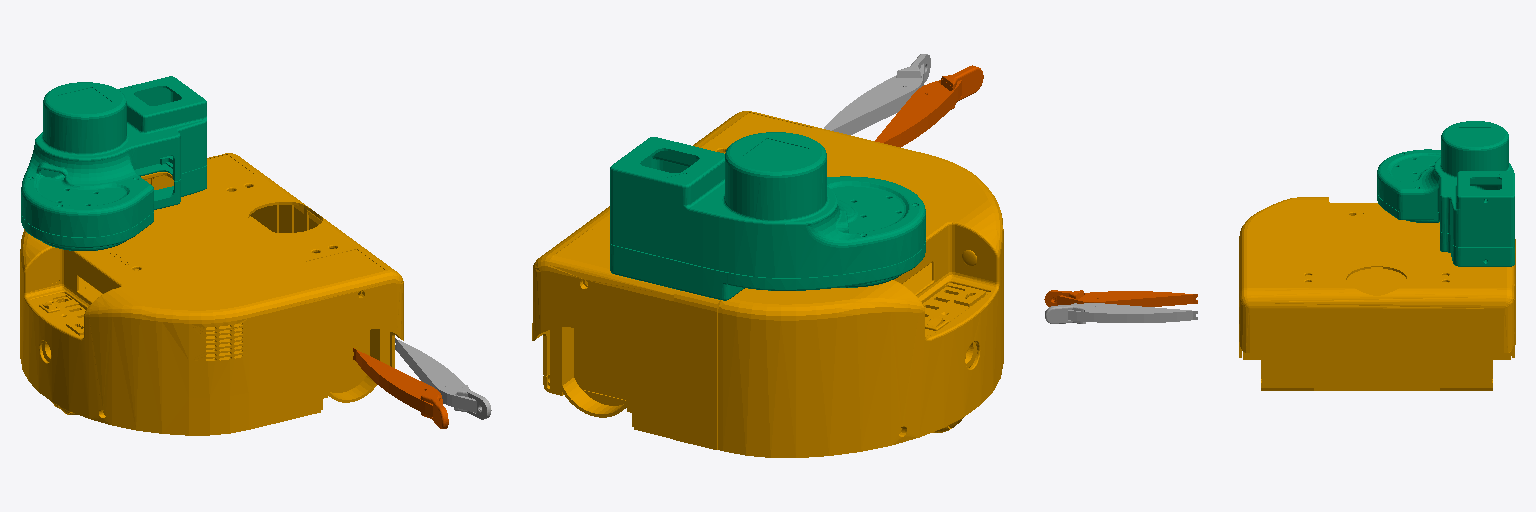
robot.urdf — stretch:
<?xml version='1.0' encoding='UTF-8'?>
<robot name="stretch">
  <link name="base_link">
    <inertial>
      <origin xyz="-0.087526 -0.001626 0.081009" rpy="0.0 0.0 0.0"/>
      <mass value="17.384389"/>
      <inertia ixx="0.160002" ixy="0.006758" ixz="0.004621" iyy="0.138068" iyz="0.002208" izz="0.228992"/>
    </inertial>
    <visual>
      <geometry>
        <mesh filename="./meshes/base_link.STL"/>
      </geometry>
      <material name=""/>
      <origin xyz="0.0 0.0 0.0" rpy="0.0 0.0 0.0"/>
    </visual>
    <collision>
      <geometry>
        <mesh filename="./meshes/base_link_collision.STL"/>
      </geometry>
      <origin xyz="0.0 0.0 0.0" rpy="0.0 0.0 0.0"/>
    </collision>
  </link>
  <link name="link_mast">
    <inertial>
      <origin xyz="0.000337 0.722201 0.002652" rpy="0.0 0.0 0.0"/>
      <mass value="1.764017"/>
      <inertia ixx="0.291286" ixy="0.004149" ixz="-0.000174" iyy="0.001226" iyz="0.000354" izz="0.291429"/>
    </inertial>
    <visual>
      <geometry>
        <mesh filename="./meshes/link_mast.STL"/>
      </geometry>
      <material name=""/>
      <origin xyz="0.0 0.0 0.0" rpy="0.0 0.0 0.0"/>
    </visual>
    <collision>
      <geometry>
        <mesh filename="./meshes/link_mast_collision.STL"/>
      </geometry>
      <origin xyz="0.0 0.0 0.0" rpy="0.0 0.0 0.0"/>
    </collision>
  </link>
  <link name="link_lift">
    <inertial>
      <origin xyz="-0.020369 0.03438 0.02236" rpy="0.0 0.0 0.0"/>
      <mass value="1.987167"/>
      <inertia ixx="0.006518" ixy="-0.001539" ixz="0.000371" iyy="0.004464" iyz="0.000392" izz="0.008092"/>
    </inertial>
    <visual>
      <geometry>
        <mesh filename="./meshes/link_lift.STL"/>
      </geometry>
      <material name=""/>
      <origin xyz="0.0 0.0 0.0" rpy="0.0 0.0 0.0"/>
    </visual>
    <collision>
      <geometry>
        <mesh filename="./meshes/link_lift_collision.STL"/>
      </geometry>
      <origin xyz="0.0 0.0 0.0" rpy="0.0 0.0 0.0"/>
    </collision>
  </link>
  <link name="link_arm_l4">
    <inertial>
      <origin xyz="-0.000168 -0.000254 -0.125235" rpy="0.0 0.0 0.0"/>
      <mass value="0.235626"/>
      <inertia ixx="0.001518" ixy="-1e-06" ixz="3e-06" iyy="0.001519" iyz="3e-06" izz="0.000176"/>
    </inertial>
    <visual>
      <geometry>
        <mesh filename="./meshes/link_arm_l4.STL"/>
      </geometry>
      <material name=""/>
      <origin xyz="0.0 0.0 0.0" rpy="0.0 0.0 0.0"/>
    </visual>
    <collision>
      <geometry>
        <mesh filename="./meshes/link_arm_l4_collision.STL"/>
      </geometry>
      <origin xyz="0.0 0.0 0.0" rpy="0.0 0.0 0.0"/>
    </collision>
  </link>
  <link name="link_arm_l3">
    <inertial>
      <origin xyz="-1e-06 -0.000146 -0.11908" rpy="0.0 0.0 0.0"/>
      <mass value="0.146817"/>
      <inertia ixx="0.001081" ixy="0.0" ixz="0.0" iyy="0.001081" iyz="-1e-06" izz="7.7e-05"/>
    </inertial>
    <visual>
      <geometry>
        <mesh filename="./meshes/link_arm_l3.STL"/>
      </geometry>
      <material name=""/>
      <origin xyz="0.0 0.0 0.0" rpy="0.0 0.0 0.0"/>
    </visual>
    <collision>
      <geometry>
        <mesh filename="./meshes/link_arm_l3_collision.STL"/>
      </geometry>
      <origin xyz="0.0 0.0 0.0" rpy="0.0 0.0 0.0"/>
    </collision>
  </link>
  <link name="link_arm_l2">
    <inertial>
      <origin xyz="0.0 -7.1e-05 -0.115635" rpy="0.0 0.0 0.0"/>
      <mass value="0.130565"/>
      <inertia ixx="0.000943" ixy="0.0" ixz="0.0" iyy="0.000943" iyz="0.0" izz="5.7e-05"/>
    </inertial>
    <visual>
      <geometry>
        <mesh filename="./meshes/link_arm_l2.STL"/>
      </geometry>
      <material name=""/>
      <origin xyz="0.0 0.0 0.0" rpy="0.0 0.0 0.0"/>
    </visual>
    <collision>
      <geometry>
        <mesh filename="./meshes/link_arm_l2_collision.STL"/>
      </geometry>
      <origin xyz="0.0 0.0 0.0" rpy="0.0 0.0 0.0"/>
    </collision>
  </link>
  <link name="link_arm_l1">
    <inertial>
      <origin xyz="-1e-06 -0.000121 -0.113457" rpy="0.0 0.0 0.0"/>
      <mass value="0.113658"/>
      <inertia ixx="0.0008" ixy="0.0" ixz="0.0" iyy="0.0008" iyz="0.0" izz="4e-05"/>
    </inertial>
    <visual>
      <geometry>
        <mesh filename="./meshes/link_arm_l1.STL"/>
      </geometry>
      <material name=""/>
      <origin xyz="0.0 0.0 0.0" rpy="0.0 0.0 0.0"/>
    </visual>
    <collision>
      <geometry>
        <mesh filename="./meshes/link_arm_l1_collision.STL"/>
      </geometry>
      <origin xyz="0.0 0.0 0.0" rpy="0.0 0.0 0.0"/>
    </collision>
  </link>
  <link name="link_arm_l0">
    <inertial>
      <origin xyz="0.033681 -0.000847 -0.031723" rpy="0.0 0.0 0.0"/>
      <mass value="0.427734"/>
      <inertia ixx="0.001689" ixy="-2.8e-05" ixz="0.000483" iyy="0.002107" iyz="-1.1e-05" izz="0.000571"/>
    </inertial>
    <visual>
      <geometry>
        <mesh filename="./meshes/link_arm_l0.STL"/>
      </geometry>
      <material name=""/>
      <origin xyz="0.0 0.0 0.0" rpy="0.0 0.0 0.0"/>
    </visual>
    <collision>
      <geometry>
        <mesh filename="./meshes/link_arm_l0_collision.STL"/>
      </geometry>
      <origin xyz="0.0 0.0 0.0" rpy="0.0 0.0 0.0"/>
    </collision>
  </link>
  <link name="link_wrist_yaw">
    <inertial>
      <origin xyz="0.0 -3.9e-05 -0.016495" rpy="0.0 0.0 0.0"/>
      <mass value="0.054422"/>
      <inertia ixx="9e-06" ixy="0.0" ixz="0.0" iyy="9e-06" iyz="0.0" izz="7e-06"/>
    </inertial>
    <visual>
      <geometry>
        <mesh filename="./meshes/link_wrist_yaw.STL"/>
      </geometry>
      <material name=""/>
      <origin xyz="0.0 0.0 0.0" rpy="0.0 0.0 0.0"/>
    </visual>
    <collision>
      <geometry>
        <mesh filename="./meshes/link_wrist_yaw_collision.STL"/>
      </geometry>
      <origin xyz="0.0 0.0 0.0" rpy="0.0 0.0 0.0"/>
    </collision>
  </link>
  <link name="link_wrist_yaw_bottom">
    <inertial>
      <origin xyz="-0.0165399153795968 -0.0446328107020906 -0.0281087384763343" rpy="0.0 0.0 0.0"/>
      <mass value="0.144548635554334"/>
      <inertia ixx="4.56525957614798e-05" ixy="-1.08217417869179e-06" ixz="-1.44384040297111e-08" iyy="7.22875259104698e-05" iyz="3.40820143544021e-09" izz="8.76544308203217e-05"/>
    </inertial>
    <visual>
      <geometry>
        <mesh filename="./meshes/link_DW3_wrist_yaw_bottom.STL"/>
      </geometry>
      <material name=""/>
      <origin xyz="0.0 0.0 0.0" rpy="0.0 0.0 0.0"/>
    </visual>
    <collision>
      <geometry>
        <mesh filename="./meshes/link_DW3_wrist_yaw_bottom_collision.STL"/>
      </geometry>
      <origin xyz="0.0 0.0 0.0" rpy="0.0 0.0 0.0"/>
    </collision>
  </link>
  <link name="link_wrist_pitch">
    <inertial>
      <origin xyz="-0.000711479645697954 -0.0147442681465562 0.0195140764319514" rpy="0.0 0.0 0.0"/>
      <mass value="0.116590512374845"/>
      <inertia ixx="5.76204624498191e-05" ixy="-7.78647509857216e-07" ixz="-2.86646997376633e-08" iyy="3.5844353951621e-05" iyz="1.06445058968725e-06" izz="6.36355321976534e-05"/>
    </inertial>
    <visual>
      <geometry>
        <mesh filename="./meshes/link_DW3_wrist_pitch.STL"/>
      </geometry>
      <material name=""/>
      <origin xyz="0.0 0.0 0.0" rpy="0.0 0.0 0.0"/>
    </visual>
    <collision>
      <geometry>
        <mesh filename="./meshes/link_DW3_wrist_pitch_collision.STL"/>
      </geometry>
      <origin xyz="0.0 0.0 0.0" rpy="0.0 0.0 0.0"/>
    </collision>
  </link>
  <link name="link_wrist_roll">
    <inertial>
      <origin xyz="0.000282866582415386 0.000557472767112266 0.0196635450480892" rpy="0.0 0.0 0.0"/>
      <mass value="0.0221916689638078"/>
      <inertia ixx="2.20608319376175e-06" ixy="3.01742816614342e-09" ixz="-1.83537060988685e-08" iyy="2.91436292743443e-06" iyz="-4.5509705441618e-08" izz="4.83731409646016e-06"/>
    </inertial>
    <visual>
      <geometry>
        <mesh filename="./meshes/link_DW3_wrist_roll.STL"/>
      </geometry>
      <material name=""/>
      <origin xyz="0.0 0.0 0.0" rpy="0.0 0.0 0.0"/>
    </visual>
    <collision>
      <geometry>
        <mesh filename="./meshes/link_DW3_wrist_roll_collision.STL"/>
      </geometry>
      <origin xyz="0.0 0.0 0.0" rpy="0.0 0.0 0.0"/>
    </collision>
  </link>
  <link name="link_gripper_s3_body">
    <inertial>
      <origin xyz="0.000296364207693828 0.00742489472460528 0.0440194148825503" rpy="0.0 0.0 0.0"/>
      <mass value="0.288995995074102"/>
      <inertia ixx="0.000482695285602815" ixy="-3.02029982967392e-06" ixz="6.73858128561175e-07" iyy="0.000213430693267808" iyz="-1.95797907844847e-05" izz="0.000377638305434195"/>
    </inertial>
    <visual>
      <geometry>
        <mesh filename="./meshes/link_SG3_gripper_body.STL"/>
      </geometry>
      <material name=""/>
      <origin xyz="0.0 0.0 0.0" rpy="0.0 0.0 0.0"/>
    </visual>
    <collision>
      <geometry>
        <mesh filename="./meshes/link_SG3_gripper_body_collision.STL"/>
      </geometry>
      <origin xyz="0.0 0.0 0.0" rpy="0.0 0.0 0.0"/>
    </collision>
  </link>
  <link name="link_gripper_finger_right">
    <inertial>
      <origin xyz="-0.107294725536829 -0.00404012121215261 7.86433341395387e-05" rpy="0.0 0.0 0.0"/>
      <mass value="0.0483698337858479"/>
      <inertia ixx="3.0603544296956e-06" ixy="-8.13967524445937e-07" ixz="-6.04746355450675e-08" iyy="6.12306677697621e-05" iyz="-1.81592899124487e-08" izz="6.24670188075471e-05"/>
    </inertial>
    <visual>
      <geometry>
        <mesh filename="./meshes/link_SG3_gripper_finger_right.STL"/>
      </geometry>
      <material name=""/>
      <origin xyz="0.0 0.0 0.0" rpy="0.0 0.0 0.0"/>
    </visual>
    <collision>
      <geometry>
        <mesh filename="./meshes/link_SG3_gripper_finger_right_collision.STL"/>
      </geometry>
      <origin xyz="0.0 0.0 0.0" rpy="0.0 0.0 0.0"/>
    </collision>
  </link>
  <link name="link_gripper_fingertip_right">
    <inertial>
      <origin xyz="2.8647736627363e-08 -9.47712436305537e-09 0.00812577933915037" rpy="0.0 0.0 0.0"/>
      <mass value="0.00382162062525088"/>
      <inertia ixx="4.13411802118931e-07" ixy="3.48038363075757e-16" ixz="-5.14102948448996e-13" iyy="4.13411799815932e-07" iyz="1.76223254858882e-13" izz="7.08442016110623e-07"/>
    </inertial>
    <visual>
      <geometry>
        <mesh filename="./meshes/link_SG3_gripper_fingertip_right.STL"/>
      </geometry>
      <material name=""/>
      <origin xyz="0.0 0.0 0.0" rpy="0.0 0.0 0.0"/>
    </visual>
    <collision>
      <geometry>
        <mesh filename="./meshes/link_SG3_gripper_fingertip_right_collision.STL"/>
      </geometry>
      <origin xyz="0.0 0.0 0.0" rpy="0.0 0.0 0.0"/>
    </collision>
  </link>
  <link name="link_gripper_finger_left">
    <inertial>
      <origin xyz="0.107294715994863 -0.00404011929289155 7.86443400617731e-05" rpy="0.0 0.0 0.0"/>
      <mass value="0.0483698266031602"/>
      <inertia ixx="3.06035472000871e-06" ixy="8.13968102368407e-07" ixz="6.04787443258659e-08" iyy="6.12306675643124e-05" iyz="-1.81596824851191e-08" izz="6.24670194741309e-05"/>
    </inertial>
    <visual>
      <geometry>
        <mesh filename="./meshes/link_SG3_gripper_finger_left.STL"/>
      </geometry>
      <material name=""/>
      <origin xyz="0.0 0.0 0.0" rpy="0.0 0.0 0.0"/>
    </visual>
    <collision>
      <geometry>
        <mesh filename="./meshes/link_SG3_gripper_finger_left_collision.STL"/>
      </geometry>
      <origin xyz="0.0 0.0 0.0" rpy="0.0 0.0 0.0"/>
    </collision>
  </link>
  <link name="link_gripper_fingertip_left">
    <inertial>
      <origin xyz="-3.08483497635237e-08 -1.26956833934599e-09 0.0081257795407928" rpy="0.0 0.0 0.0"/>
      <mass value="0.00382162054362131"/>
      <inertia ixx="4.13411804417319e-07" ixy="2.60118266065524e-16" ixz="5.82035131405725e-13" iyy="4.13411805017951e-07" iyz="2.22196449834679e-14" izz="7.08442015318697e-07"/>
    </inertial>
    <visual>
      <geometry>
        <mesh filename="./meshes/link_SG3_gripper_fingertip_left.STL"/>
      </geometry>
      <material name=""/>
      <origin xyz="0.0 0.0 0.0" rpy="0.0 0.0 0.0"/>
    </visual>
    <collision>
      <geometry>
        <mesh filename="./meshes/link_SG3_gripper_fingertip_left_collision.STL"/>
      </geometry>
      <origin xyz="0.0 0.0 0.0" rpy="0.0 0.0 0.0"/>
    </collision>
  </link>
  <link name="link_grasp_center">
    <inertial>
      <origin xyz="0.0 0.0 0.0" rpy="0.0 -0.0 0.0"/>
      <mass value="1.0"/>
      <inertia ixx="1.0" ixy="0.0" ixz="0.0" iyy="1.0" iyz="0.0" izz="1.0"/>
    </inertial>
  </link>
  <joint name="joint_mast" type="fixed">
    <parent link="base_link"/>
    <child link="link_mast"/>
    <axis xyz="1. 0. 0."/>
    <origin xyz="-0.067 0.135 0.0284" rpy="1.5708 0.0 4.8006e-17"/>
  </joint>
  <joint name="joint_lift" type="prismatic">
    <limit effort="100.0" velocity="1.0" lower="0.0" upper="1.1"/>
    <parent link="link_mast"/>
    <child link="link_lift"/>
    <axis xyz="0. 0. 1."/>
    <origin xyz="-0.037385 0.1666 0.0" rpy="1.5707926535897934 1.5707926535755432 -3.141592653589793"/>
  </joint>
  <joint name="joint_arm_l4" type="fixed">
    <parent link="link_lift"/>
    <child link="link_arm_l4"/>
    <axis xyz="1. 0. 0."/>
    <origin xyz="-0.2547 0.0 0.0" rpy="1.5708 2.4721e-15 -1.5708"/>
  </joint>
  <joint name="joint_arm_l3" type="prismatic">
    <limit effort="100.0" velocity="1.0" lower="0.0" upper="0.13"/>
    <parent link="link_arm_l4"/>
    <child link="link_arm_l3"/>
    <axis xyz="0. 0. 1."/>
    <origin xyz="0.0 0.0 0.013" rpy="7.68831233799385e-30 2.36716479416092e-30 2.29652732251143e-17"/>
  </joint>
  <joint name="joint_arm_l2" type="prismatic">
    <limit effort="100.0" velocity="1.0" lower="0.0" upper="0.13"/>
    <parent link="link_arm_l3"/>
    <child link="link_arm_l2"/>
    <axis xyz="0. 0. 1."/>
    <origin xyz="0.0 0.0 0.013" rpy="0.0 1.57655765344625e-30 -1.66533453693773e-16"/>
  </joint>
  <joint name="joint_arm_l1" type="prismatic">
    <limit effort="100.0" velocity="1.0" lower="0.0" upper="0.13"/>
    <parent link="link_arm_l2"/>
    <child link="link_arm_l1"/>
    <axis xyz="0. 0. 1."/>
    <origin xyz="0.0 0.0 0.0129999999999981" rpy="-7.63746778746202e-30 -7.88860905221012e-31 1.11022302462516e-16"/>
  </joint>
  <joint name="joint_arm_l0" type="prismatic">
    <limit effort="100.0" velocity="1.0" lower="0.0" upper="0.13"/>
    <parent link="link_arm_l1"/>
    <child link="link_arm_l0"/>
    <axis xyz="0. 0. 1."/>
    <origin xyz="0.0 0.0 -0.0137499999991968" rpy="7.63746778746202e-30 -3.80121128864402e-15 2.62707547767438e-15"/>
  </joint>
  <joint name="joint_wrist_yaw" type="revolute">
    <limit effort="100.0" velocity="1.0" lower="-1.75" upper="4.0"/>
    <parent link="link_arm_l0"/>
    <child link="link_wrist_yaw"/>
    <axis xyz=" 0.  0. -1."/>
    <origin xyz="0.0830000000000654 -0.0307500000000129 0.0" rpy="-1.5707963267949 0.0 3.14159265358978"/>
  </joint>
  <joint name="joint_wrist_yaw_bottom" type="fixed">
    <parent link="link_wrist_yaw"/>
    <child link="link_wrist_yaw_bottom"/>
    <axis xyz="1. 0. 0."/>
    <origin xyz="0.0 0.0 0.0" rpy="-3.14159265358979 0.0 -1.5707963267949"/>
  </joint>
  <joint name="joint_wrist_pitch" type="revolute">
    <limit effort="100.0" velocity="1.0" lower="-1.57" upper="0.56"/>
    <parent link="link_wrist_yaw_bottom"/>
    <child link="link_wrist_pitch"/>
    <axis xyz=" 0.  0. -1."/>
    <origin xyz="0.0 -0.019455 -0.0305" rpy="1.5708 0.0 -3.1415853071795867"/>
  </joint>
  <joint name="joint_wrist_roll" type="revolute">
    <limit effort="100.0" velocity="1.0" lower="-3.14" upper="3.14"/>
    <parent link="link_wrist_pitch"/>
    <child link="link_wrist_roll"/>
    <axis xyz="0. 0. 1."/>
    <origin xyz="-0.018859 -0.024 0.01955" rpy="7.3464102067096675e-06 1.5707926535755432 -3.141592653589793"/>
  </joint>
  <joint name="joint_gripper_s3_body" type="fixed">
    <parent link="link_wrist_roll"/>
    <child link="link_gripper_s3_body"/>
    <axis xyz="1. 0. 0."/>
    <origin xyz="0.0 0.0 0.0209999999993159" rpy="0.0 0.0 -3.14159265358975"/>
  </joint>
  <joint name="joint_gripper_finger_right" type="fixed">
    <limit effort="0.0" velocity="0.0" lower="0.0" upper="0.0"/>
    <parent link="link_gripper_s3_body"/>
    <child link="link_gripper_finger_right"/>
    <axis xyz="0. 0. 1."/>
    <origin xyz="-0.0246929393014972 0.0 0.0371909405167257" rpy="-1.57079632679513 1.4878931873251502 3.14159265358956"/>
  </joint>
  <joint name="joint_gripper_fingertip_right" type="fixed">
    <parent link="link_gripper_finger_right"/>
    <child link="link_gripper_fingertip_right"/>
    <axis xyz="1. 0. 0."/>
    <origin xyz="-0.177784508377902 -0.0106721811879468 0.0" rpy="-1.5707963267949 0.0 0.261799387799172"/>
  </joint>
  <joint name="joint_gripper_finger_left" type="fixed">
    <limit effort="0.0" velocity="0.0" lower="0.0" upper="0.0"/>
    <parent link="link_gripper_s3_body"/>
    <child link="link_gripper_finger_left"/>
    <axis xyz=" 0.  0. -1."/>
    <origin xyz="0.0245029393015013 0.0 0.0371909405167127" rpy="-1.57079632679523 -1.4878931873467196 -3.14159265358946"/>
  </joint>
  <joint name="joint_gripper_fingertip_left" type="fixed">
    <parent link="link_gripper_finger_left"/>
    <child link="link_gripper_fingertip_left"/>
    <axis xyz="1. 0. 0."/>
    <origin xyz="0.177784508377884 -0.0106721811879429 0.0" rpy="1.57079632679491 0.0 2.87979326579064"/>
  </joint>
  <joint name="joint_grasp_center" type="fixed">
    <parent link="link_gripper_s3_body"/>
    <child link="link_grasp_center"/>
    <axis xyz="1. 0. 0."/>
    <origin xyz="0.0 0.0 0.23" rpy="-1.5707963267949 -1.5707963267948966 0.0"/>
  </joint>
  <material name="aluminum">
    <color rgba="0.5 0.5 0.5 1. "/>
  </material>
  <material name="plastic">
    <color rgba="0.1 0.1 0.1 1. "/>
  </material>
  <material name="">
    <color rgba="0.79216 0.81961 0.93333 1.     "/>
  </material>
</robot>

--- What the picture shows (computed from the rendered views, not written in the file) ---
Views: 3 orthographic renders of the robot side by side, from view 1: azimuth 30°, elevation 25°; view 2: azimuth 150°, elevation 25°; view 3: azimuth 270°, elevation 25°.
Model stretch with 18 links and 17 joints (3 revolute, 5 prismatic, 9 fixed), rooted at base_link, posed every joint at zero.
Links seen in each view (by area): view 1: base_link, link_lift, link_gripper_finger_right, link_gripper_finger_left; view 2: base_link, link_lift, link_gripper_finger_right, link_gripper_finger_left; view 3: base_link, link_lift, link_gripper_finger_left, link_gripper_finger_right.
Boxes of the visible links, x1=… form: base_link: x1=20, y1=153, x2=403, y2=435; link_lift: x1=21, y1=76, x2=206, y2=250; link_gripper_finger_right: x1=353, y1=348, x2=448, y2=428; link_gripper_finger_left: x1=395, y1=338, x2=491, y2=419; base_link: x1=532, y1=111, x2=1003, y2=457; link_lift: x1=610, y1=132, x2=925, y2=300; link_gripper_finger_right: x1=875, y1=65, x2=983, y2=147; link_gripper_finger_left: x1=824, y1=54, x2=930, y2=134; base_link: x1=1239, y1=197, x2=1515, y2=390; link_lift: x1=1377, y1=121, x2=1514, y2=266; link_gripper_finger_left: x1=1045, y1=303, x2=1197, y2=323; link_gripper_finger_right: x1=1044, y1=290, x2=1197, y2=306.
Bounding box of the posed robot: 0.325 × 0.5829 × 0.2813 m (x, y, z).
4 mesh visuals loaded from 17 distinct referenced files (4 binary STL); not drawn: 13 (reference not matched to a file when rendering).